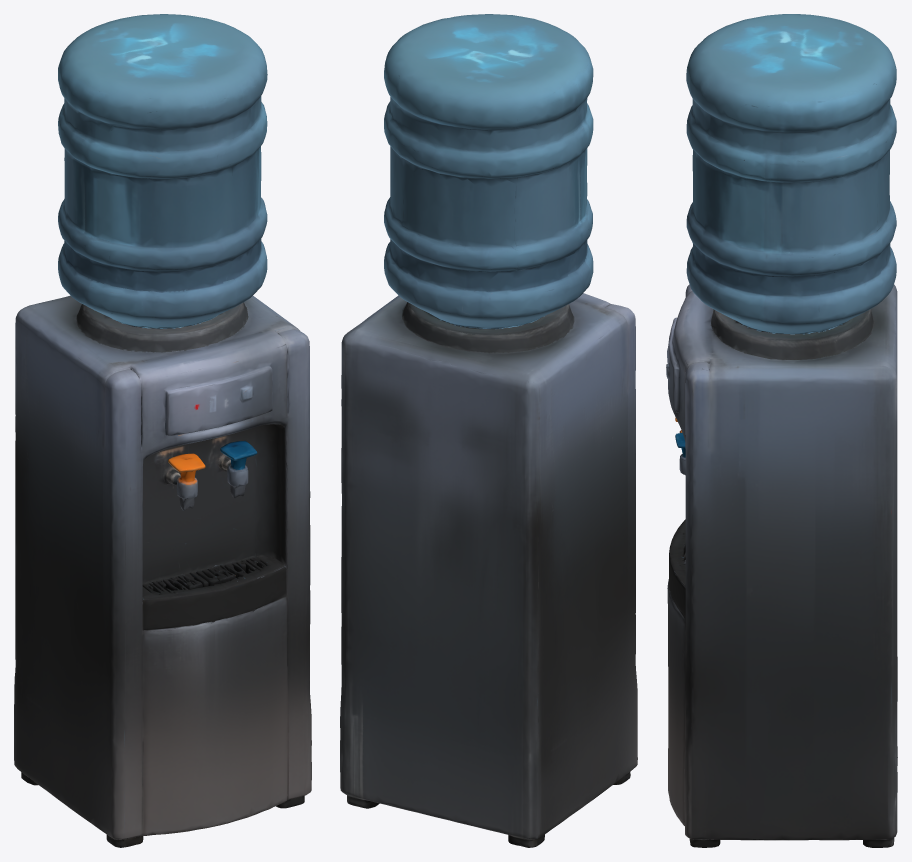
The model's file is lecturehall_WaterCooler.glb.
3 renders of one model, left to right at view 1: azimuth 30°, elevation 25°; view 2: azimuth 150°, elevation 25°; view 3: azimuth 270°, elevation 25°, orthographic.
Visible parts, largest first — view 1: world; view 2: world; view 3: world.
Part boxes in pixels (x1,y1,x2,y2): world: (14, 14, 311, 847); world: (340, 14, 637, 847); world: (666, 14, 897, 847).
Bounding box in the file's own units: 0.2812 × 0.9967 × 0.2789.
Materials: 1 (1 with a texture image).
